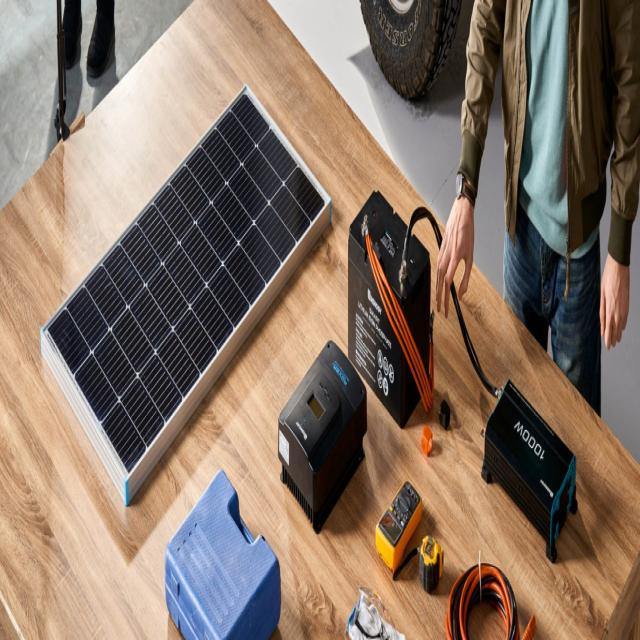clean-solar-panel: (47, 90, 325, 476)
